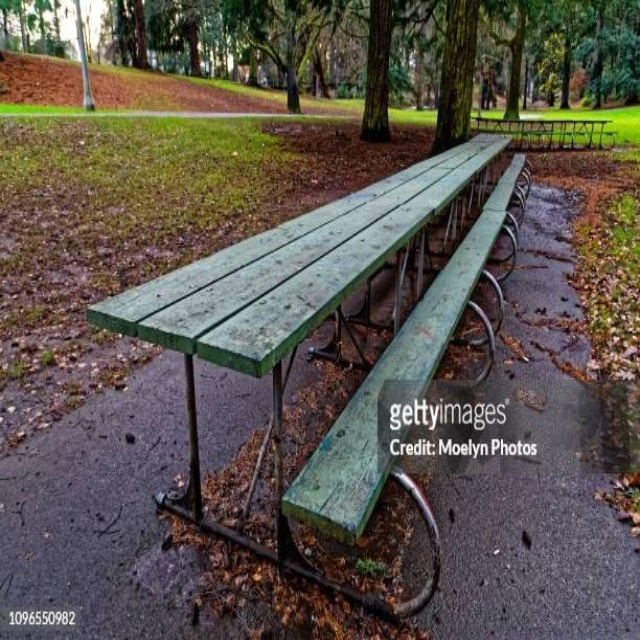obstacle: (88, 135, 506, 513)
